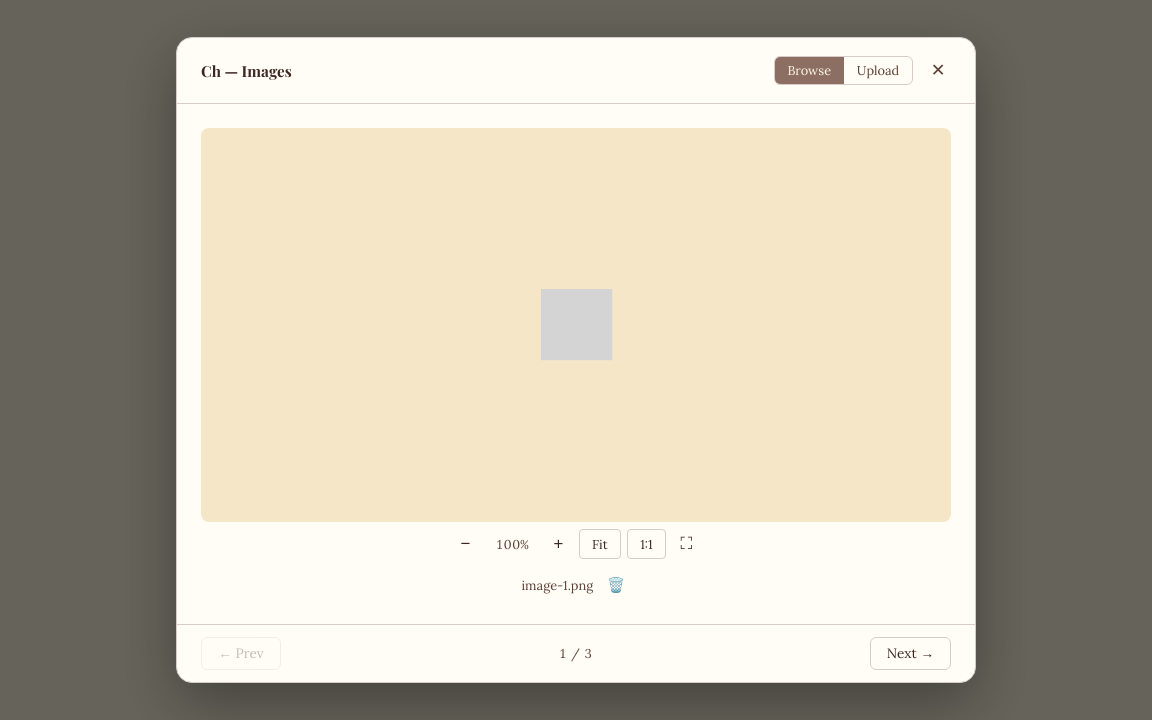
ChapterImageViewer › moves back to the new last image after deleting the last one
This screenshot has width=1152, height=720.
Expected: the text "image-1.png" is shown, [522,577,593,594]
Click the button "Next →".
click(910, 653)  # box [870,637,951,670]
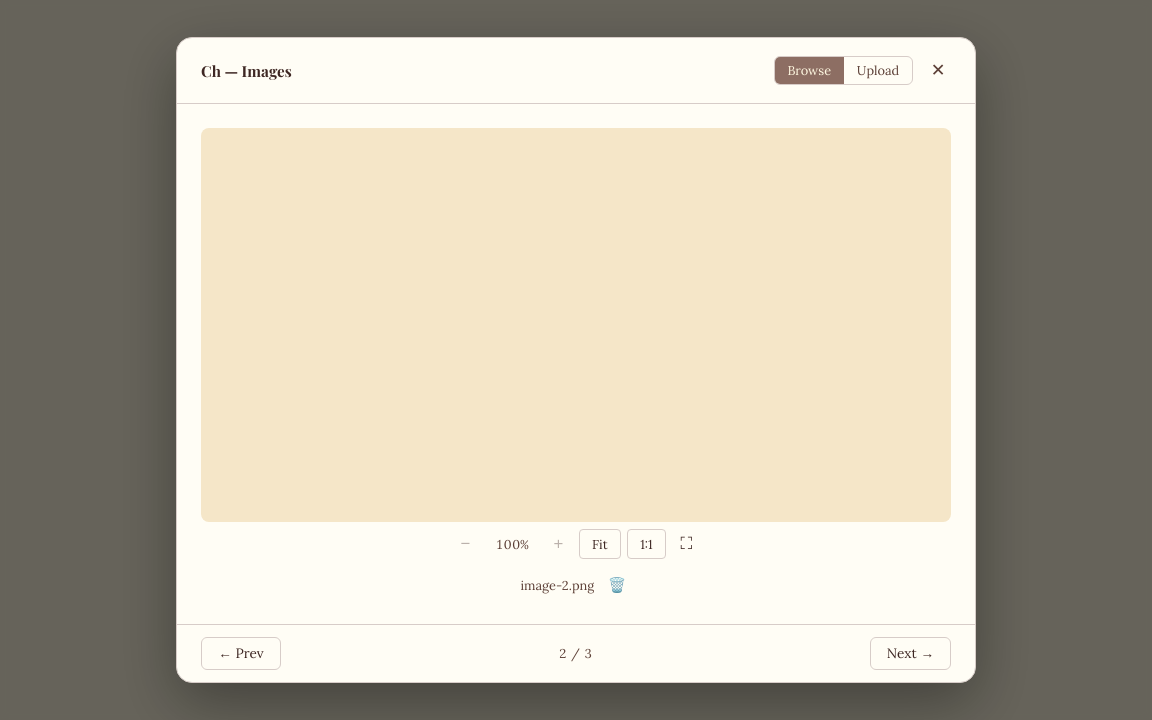
Click the button "Next →".
click(910, 653)  # box [870,637,951,670]
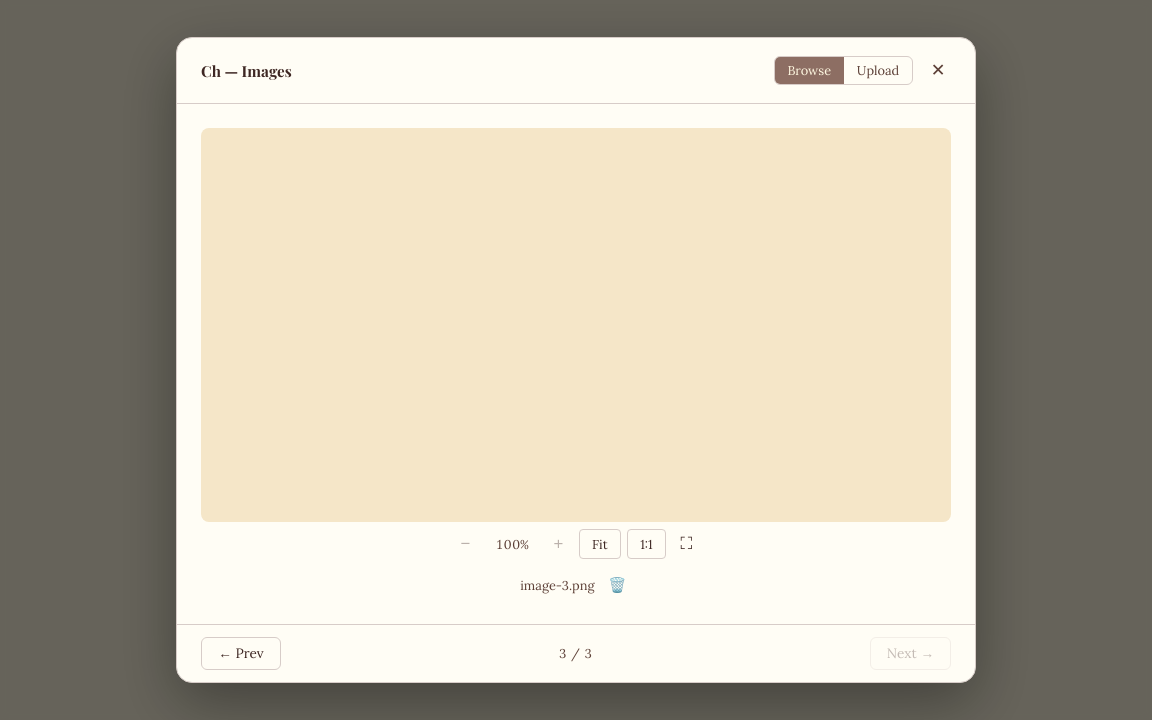
Result: the text "3 / 3" is shown at [558,645,592,662]
Click the button titled "Delete image".
click(617, 586)  # box [603,572,632,600]
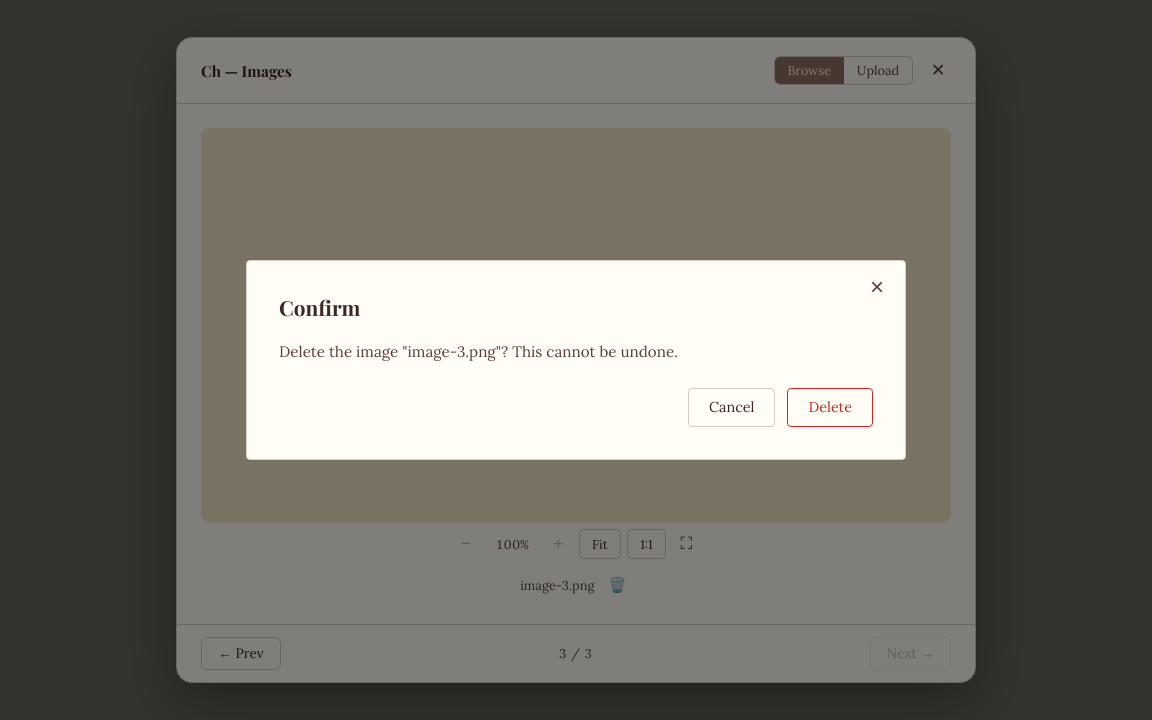
Click the button "Delete".
click(830, 407)  # box [788,388,873,427]
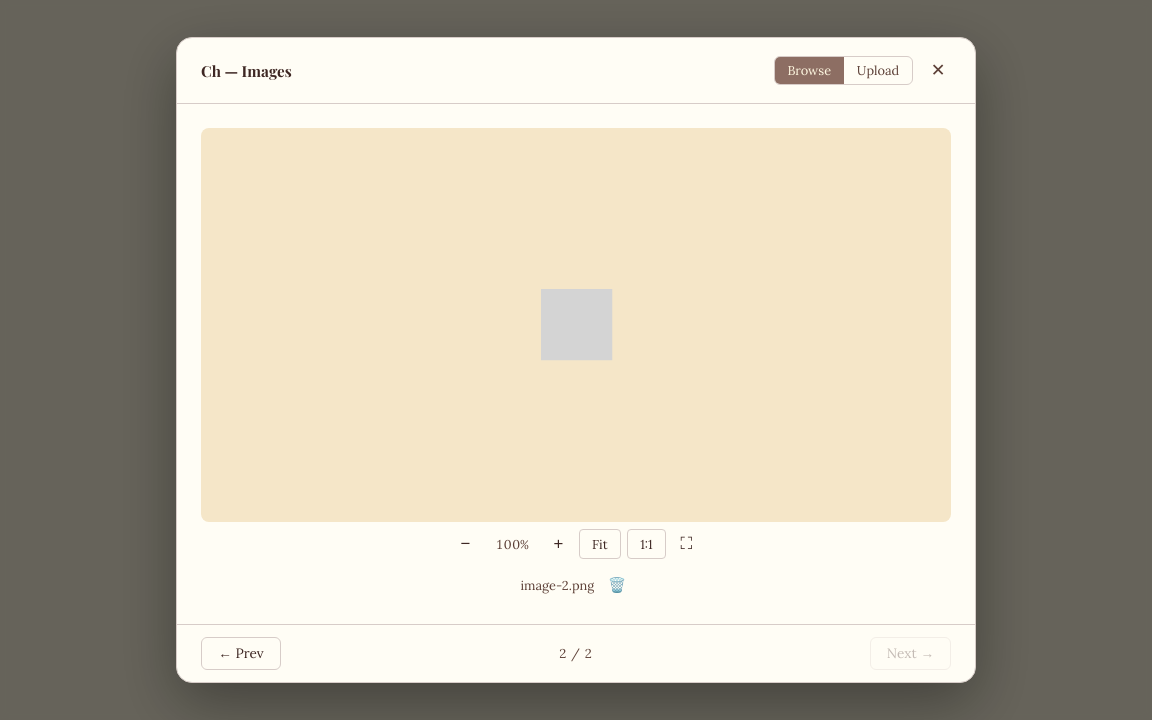
Result: the text "image-2.png" is shown at [520,577,594,594]
Result: the text "2 / 2" is shown at [558,645,592,662]
